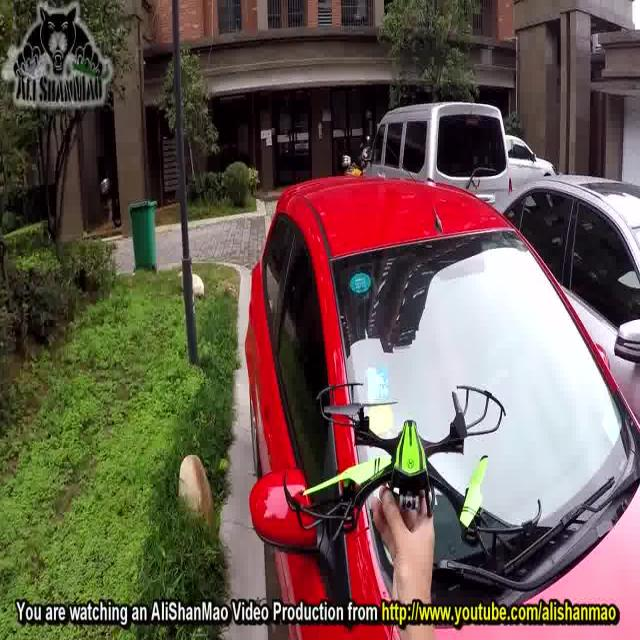Drone_FW: (283, 367, 547, 571)
